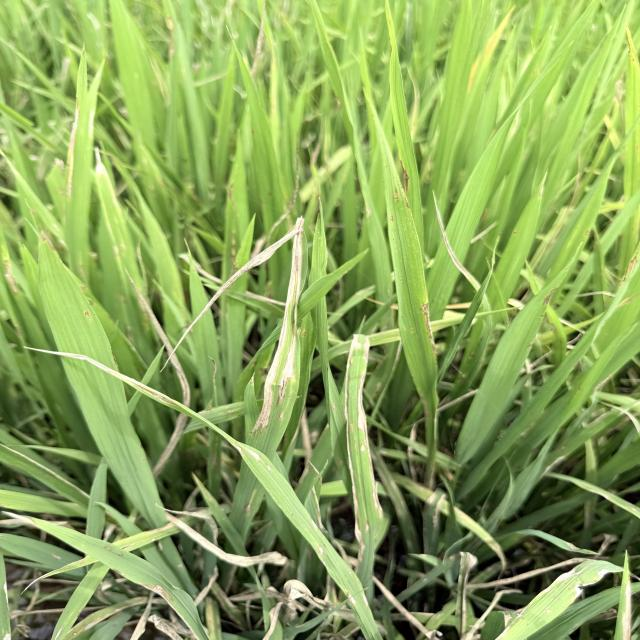Chay bia la: (251, 218, 306, 430)
